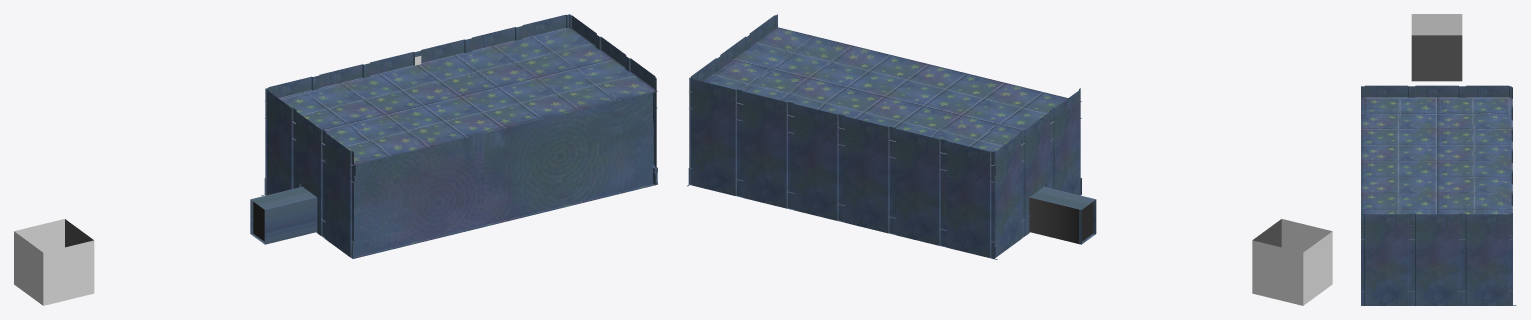
Rendered from las_14.dae.
3 renders of one model, left to right at view 1: azimuth 30°, elevation 25°; view 2: azimuth 150°, elevation 25°; view 3: azimuth 270°, elevation 25°, orthographic. The views are drawn at different scales.
Visible parts, largest first — view 1: pCube4_q00011, pCube1_q00009, pCube1_q00214, polySurface204_q00000, pCube3_q00038, pCube3_q00037, pCube3_q00036, pCube3_q00005, pCube3_q00182, pCube1_q00215, pCube3_q00184, pCube3_q00185 (+5 smaller); view 2: pCube1_q00214, pCube1_q00009, pCube3_q00185, pCube3_q00182, pCube3_q00186, pCube3_q00183, pCube3_q00181, pCube3_q00184, polySurface204_q00000, pCube3_q00038, pCube3_q00036, pCube3_q00037 (+4 smaller); view 3: pCube1_q00214, pCube1_q00009, pCube3_q00208, pCube3_q00209, pCube3_q00207, e_bero_1, polySurface204_q00000, pCube3_q00038, pCube3_q00037, pCube3_q00036.
Part boxes in pixels (<box>): pCube4_q00011: <box>354,93,652,256</box>; pCube1_q00009: <box>280,29,648,162</box>; pCube1_q00214: <box>265,28,657,165</box>; polySurface204_q00000: <box>14,219,94,305</box>; pCube3_q00038: <box>250,109,324,244</box>; pCube3_q00037: <box>324,131,353,257</box>; pCube3_q00036: <box>266,89,294,195</box>; pCube3_q00005: <box>250,191,316,243</box>; pCube3_q00182: <box>261,76,315,195</box>; pCube1_q00215: <box>351,183,655,258</box>; pCube3_q00184: <box>468,26,519,52</box>; pCube3_q00185: <box>519,14,570,39</box>; pCube1_q00214: <box>689,27,1081,165</box>; pCube1_q00009: <box>706,29,1053,146</box>; pCube3_q00185: <box>689,77,741,197</box>; pCube3_q00182: <box>943,140,997,259</box>; pCube3_q00186: <box>893,127,946,247</box>; pCube3_q00183: <box>791,102,841,221</box>; pCube3_q00181: <box>842,115,892,233</box>; pCube3_q00184: <box>740,90,790,208</box>; polySurface204_q00000: <box>1252,219,1332,305</box>; pCube3_q00038: <box>1022,110,1096,244</box>; pCube3_q00036: <box>993,131,1023,257</box>; pCube3_q00037: <box>1051,88,1080,195</box>; pCube1_q00214: <box>1361,97,1512,225</box>; pCube1_q00009: <box>1364,98,1509,214</box>; pCube3_q00208: <box>1411,213,1462,305</box>; pCube3_q00209: <box>1361,213,1411,305</box>; pCube3_q00207: <box>1462,213,1516,305</box>; e_bero_1: <box>1411,35,1462,81</box>; polySurface204_q00000: <box>1411,14,1462,35</box>; pCube3_q00038: <box>1411,85,1462,97</box>; pCube3_q00037: <box>1361,85,1411,97</box>; pCube3_q00036: <box>1462,85,1511,97</box>.
Size of the model in its own units: 115 by 20 by 30.75.
